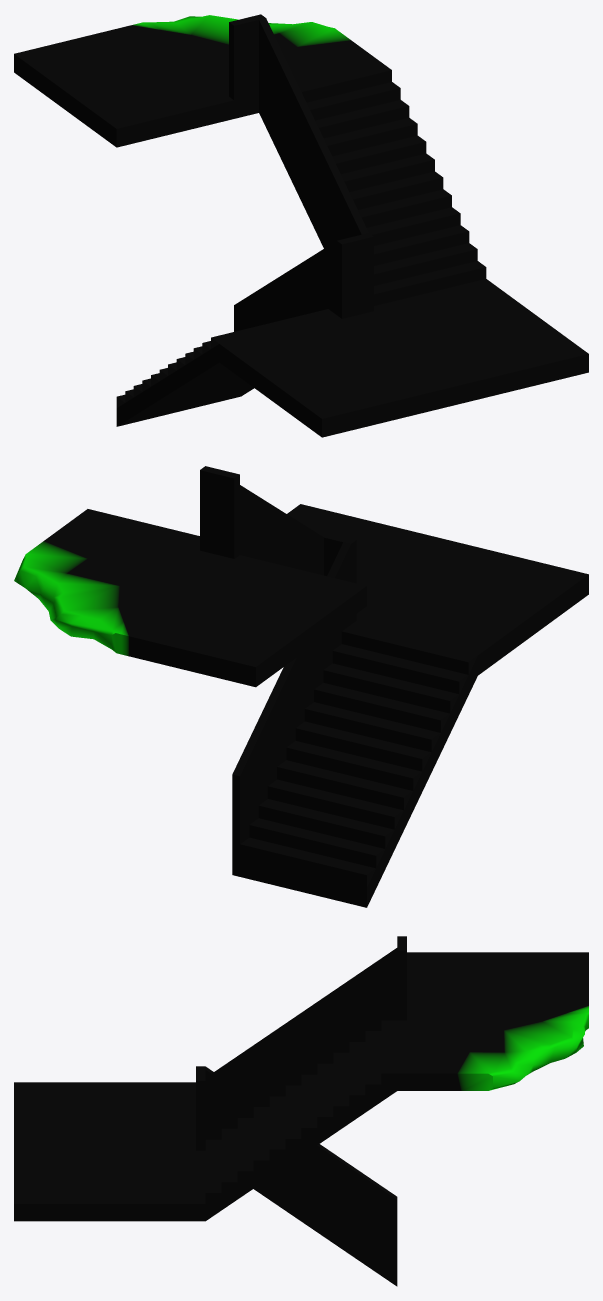
File: stairs_01_Broken_02.fbx
The picture shows the model from 3 angles, top to bottom: view 1: azimuth 30°, elevation 25°; view 2: azimuth 150°, elevation 25°; view 3: azimuth 270°, elevation 25°; orthographic projection. The views are drawn at different scales.
Parts seen in each view (by area): view 1: stairs_01_Broken_02; view 2: stairs_01_Broken_02; view 3: stairs_01_Broken_02.
Part boxes in pixels (<box>): stairs_01_Broken_02: <box>14,14,588,437</box>; stairs_01_Broken_02: <box>14,466,588,907</box>; stairs_01_Broken_02: <box>14,936,588,1286</box>.
Bounding box in the file's own units: 300 × 400 × 600.
